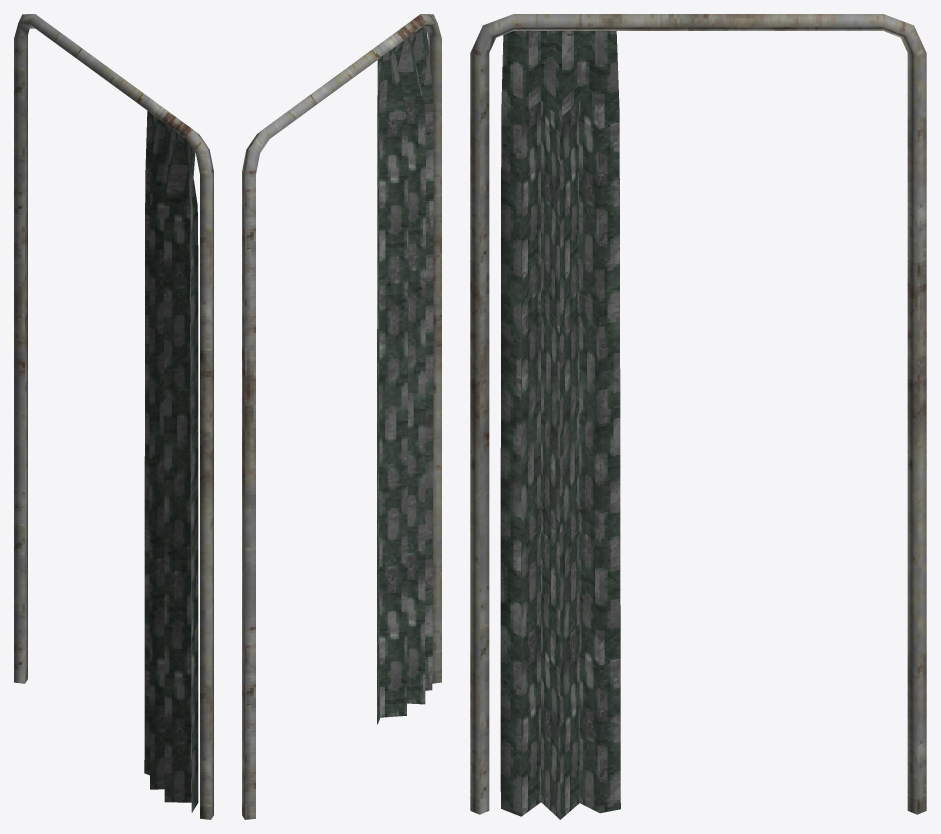
File: _Curtains_S2.FBX
3 renders of one model, left to right at view 1: azimuth 30°, elevation 25°; view 2: azimuth 150°, elevation 25°; view 3: azimuth 270°, elevation 25°, orthographic. The views are drawn at different scales.
Visible parts, largest first — view 1: _Curtains_S2; view 2: _Curtains_S2; view 3: _Curtains_S2.
Boxes of the visible parts, x1,y1,x2,y2 form: _Curtains_S2: (14, 14, 213, 819); _Curtains_S2: (242, 14, 441, 819); _Curtains_S2: (470, 14, 926, 819).
Size of the model in its own units: 9.73 by 186 by 96.42.
2 materials, 2 textured.
